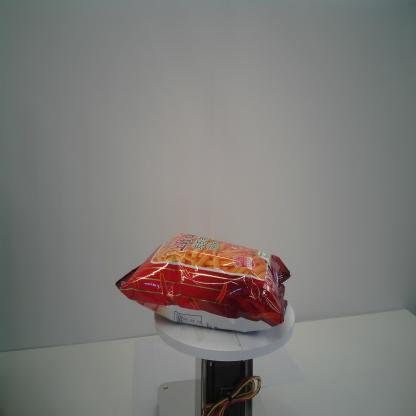Puffed Food: (114, 232, 292, 334)
